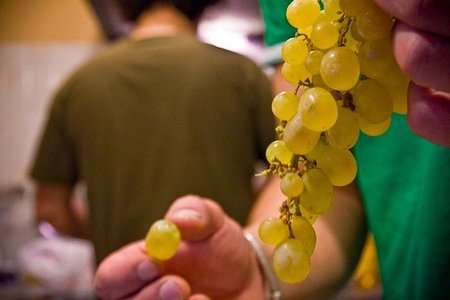Green grapes: (239, 2, 403, 282)
